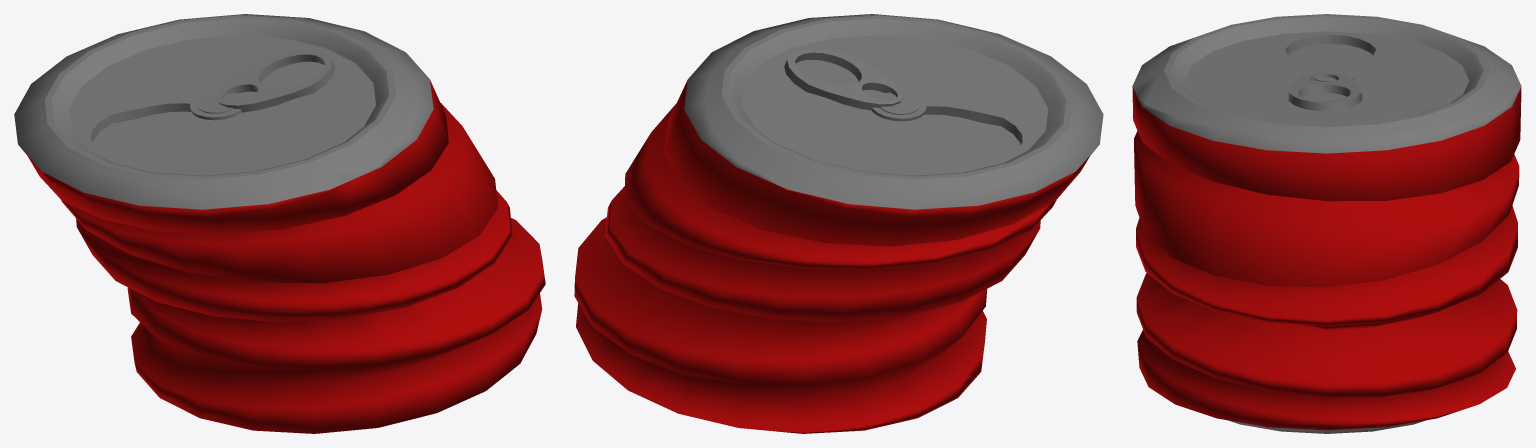
The model's file is CrumpleCan.fbx.
3 views of the same model, side by side, from view 1: azimuth 30°, elevation 25°; view 2: azimuth 150°, elevation 25°; view 3: azimuth 270°, elevation 25° (orthographic). The views are drawn at different scales.
Visible parts, largest first — view 1: polySurface10; view 2: polySurface10; view 3: polySurface10.
Boxes of the visible parts, x1,y1,x2,y2 form: polySurface10: [14, 14, 545, 433]; polySurface10: [574, 14, 1103, 433]; polySurface10: [1132, 14, 1521, 433].
Bounding box in the file's own units: 93.05 × 58.86 × 71.8.
